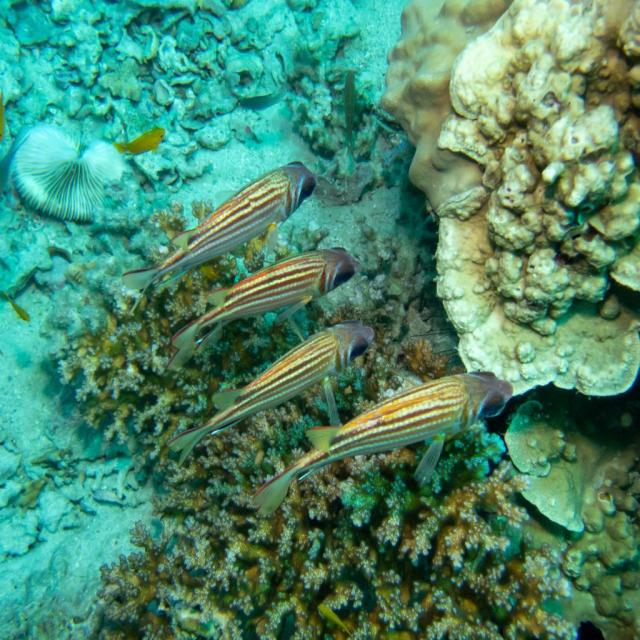Asker Baligi: (250, 368, 514, 518), (120, 159, 318, 314), (178, 326, 390, 466), (182, 239, 364, 356)
